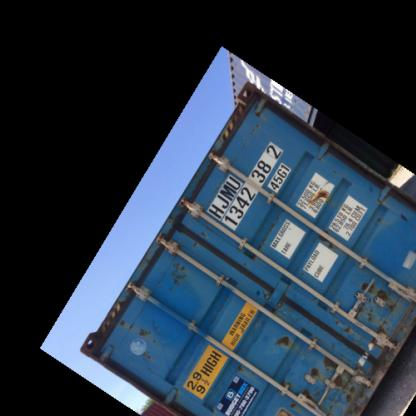Damage: (298, 346, 346, 392), (353, 274, 394, 306), (362, 315, 392, 355), (240, 102, 268, 142), (160, 260, 190, 290), (136, 323, 157, 363), (300, 183, 338, 205), (268, 332, 295, 354), (338, 387, 366, 407), (330, 320, 349, 336), (228, 365, 246, 381), (111, 316, 127, 332)
